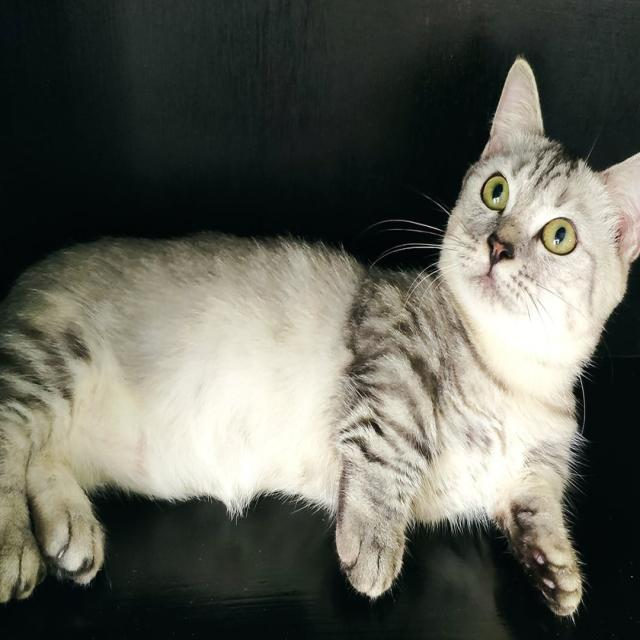Munchkin: (0, 52, 640, 620)
